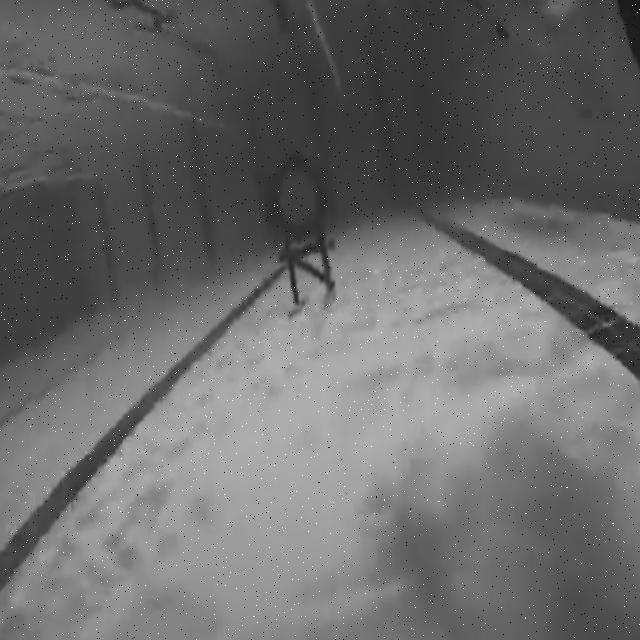Circle: (269, 148, 331, 249)
